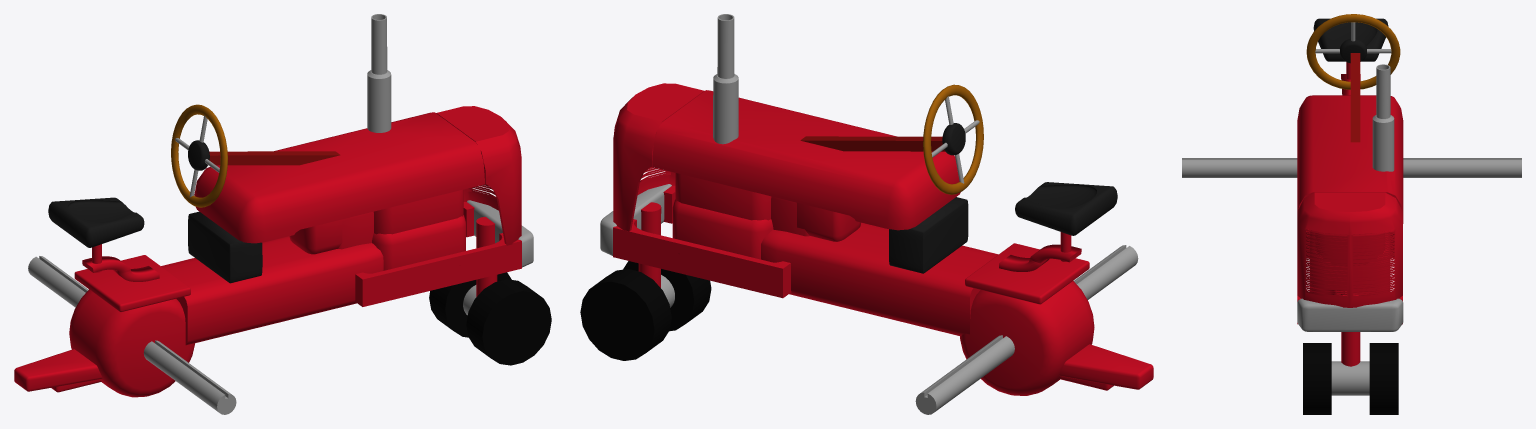
File: carAll3.DAE
The picture shows the model from 3 angles, left to right: view 1: azimuth 30°, elevation 25°; view 2: azimuth 150°, elevation 25°; view 3: azimuth 270°, elevation 25°; orthographic projection. The views are drawn at different scales.
Parts seen in each view (by area): view 1: ChamferBox01, ChamferBox06, ChamferBox30, Cylindre02, ChamferBox02, Box02, Cylinder143, ChamferBox10, ChamferBox29, ChamferBox09, ChamferBox04, ChamferBox03 (+11 smaller); view 2: ChamferBox01, ChamferBox06, ChamferBox30, Cylindre01, ChamferBox02, Box01, Cylinder143, ChamferBox10, ChamferBox29, ChamferBox09, ChamferBox04, ChamferBox03 (+11 smaller); view 3: ChamferBox02, ChamferBox01, Cylinder143, ChamferBox08, Cylindre01, Cylindre02, Torus03, ChamferBox10, Cylinder24, ChamferBox04, ChamferCyl24, Bo_te01 (+4 smaller).
Part boxes in pixels (bbox=[...]): ChamferBox01: bbox=[194, 112, 484, 243]; ChamferBox06: bbox=[161, 236, 383, 345]; ChamferBox30: bbox=[14, 289, 194, 397]; Cylindre02: bbox=[466, 279, 551, 365]; ChamferBox02: bbox=[436, 106, 521, 245]; Box02: bbox=[355, 233, 521, 306]; Cylinder143: bbox=[28, 256, 236, 414]; ChamferBox10: bbox=[48, 197, 144, 247]; ChamferBox29: bbox=[188, 211, 262, 283]; ChamferBox09: bbox=[74, 255, 190, 311]; ChamferBox04: bbox=[372, 215, 465, 270]; ChamferBox03: bbox=[373, 189, 463, 234]; ChamferBox01: bbox=[652, 90, 960, 230]; ChamferBox06: bbox=[761, 222, 998, 336]; ChamferBox30: bbox=[960, 281, 1153, 395]; Cylindre01: bbox=[580, 269, 671, 360]; ChamferBox02: bbox=[613, 83, 704, 231]; Box01: bbox=[613, 219, 791, 298]; Cylinder143: bbox=[915, 245, 1138, 414]; ChamferBox10: bbox=[1015, 182, 1117, 235]; ChamferBox29: bbox=[889, 197, 968, 273]; ChamferBox09: bbox=[965, 243, 1089, 304]; ChamferBox04: bbox=[672, 199, 773, 259]; ChamferBox03: bbox=[675, 173, 771, 220]; ChamferBox02: bbox=[1297, 192, 1402, 307]; ChamferBox01: bbox=[1297, 95, 1403, 223]; Cylinder143: bbox=[1182, 158, 1521, 177]; ChamferBox08: bbox=[1297, 298, 1403, 331]; Cylindre01: bbox=[1369, 343, 1398, 414]; Cylindre02: bbox=[1303, 343, 1331, 414]; Torus03: bbox=[1306, 14, 1400, 89]; ChamferBox10: bbox=[1313, 18, 1388, 61]; Cylinder24: bbox=[1331, 361, 1369, 395]; ChamferBox04: bbox=[1310, 230, 1390, 295]; ChamferCyl24: bbox=[1372, 115, 1394, 171]; Bo_te01: bbox=[1350, 53, 1360, 142].
Bounding box in the file's own units: 54.44 × 35.31 × 34.72.
